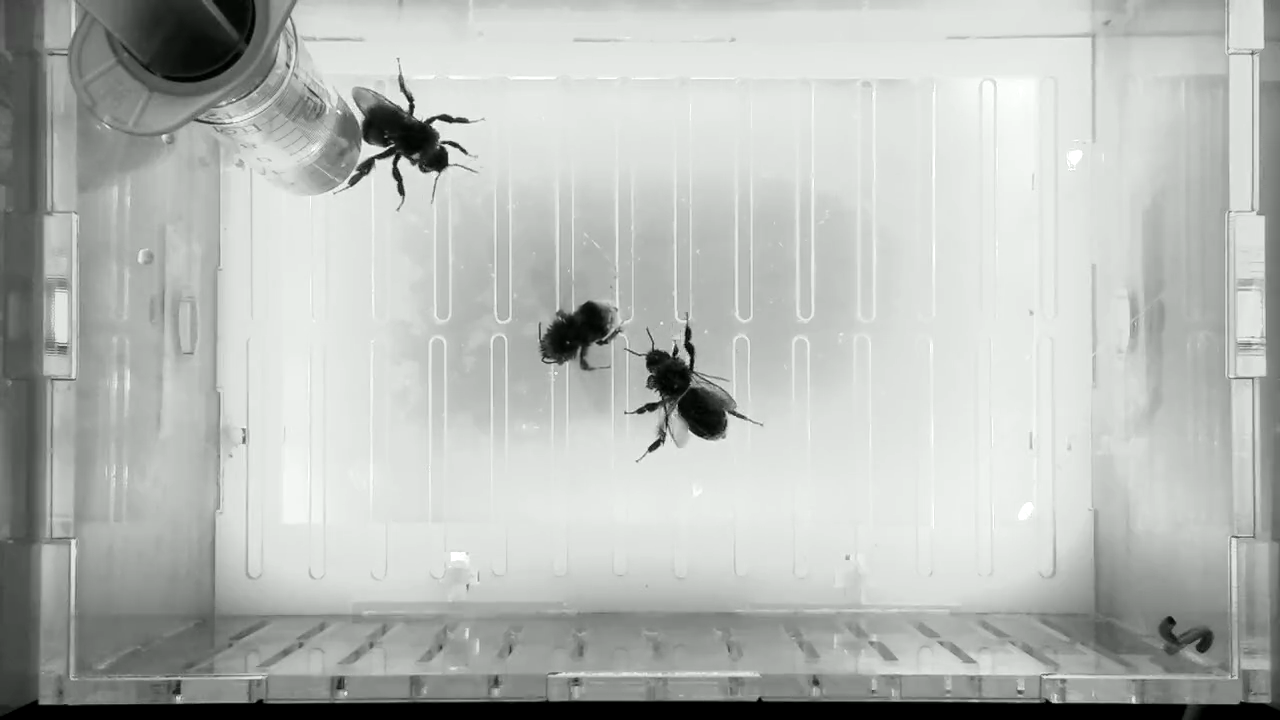bee_alive: (331, 53, 490, 217), (329, 54, 490, 215), (616, 307, 770, 470), (617, 308, 769, 466)
bee_dead: (532, 289, 629, 377), (532, 294, 627, 377)
feeder: (197, 28, 365, 200), (204, 28, 367, 203)
